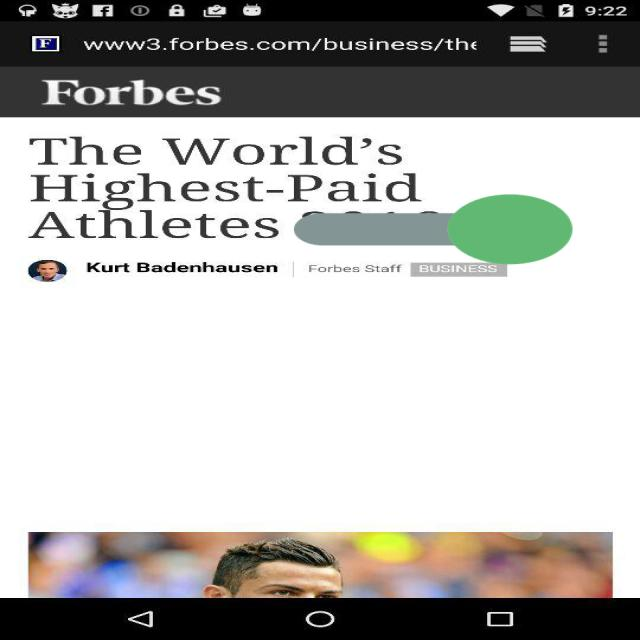social proof: (294, 152, 572, 308)
